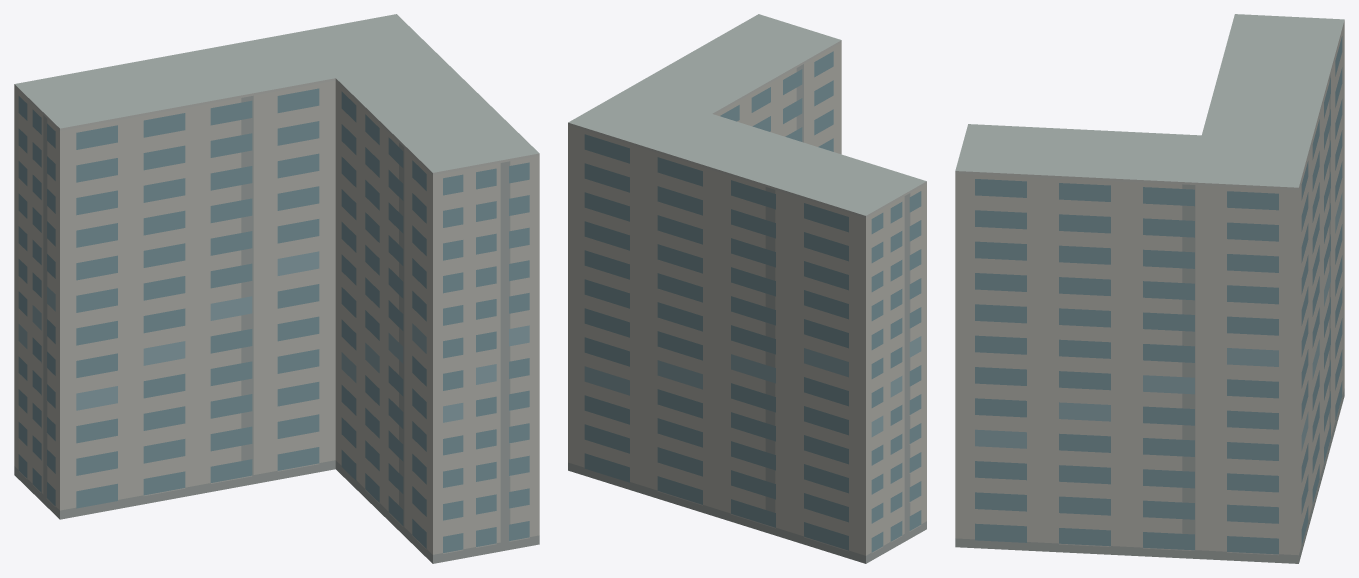
The model's file is residential-a621e42c-afe8-4f0b-b9e9-36c1c67a1f3c.glb.
3 views of the same model, side by side, from view 1: azimuth 30°, elevation 25°; view 2: azimuth 150°, elevation 25°; view 3: azimuth 270°, elevation 25° (orthographic). The views are drawn at different scales.
Visible parts, largest first — view 1: residential-a621e42c-afe8-4f0b-b9e9-36c1c67a1f3c.tmp; view 2: residential-a621e42c-afe8-4f0b-b9e9-36c1c67a1f3c.tmp; view 3: residential-a621e42c-afe8-4f0b-b9e9-36c1c67a1f3c.tmp.
Boxes of the visible parts, box(x1,y1,x2,y2) form: residential-a621e42c-afe8-4f0b-b9e9-36c1c67a1f3c.tmp: box(14, 14, 539, 563); residential-a621e42c-afe8-4f0b-b9e9-36c1c67a1f3c.tmp: box(568, 14, 926, 563); residential-a621e42c-afe8-4f0b-b9e9-36c1c67a1f3c.tmp: box(955, 14, 1344, 563).
Size of the model in its own units: 37.63 by 38 by 35.66.
